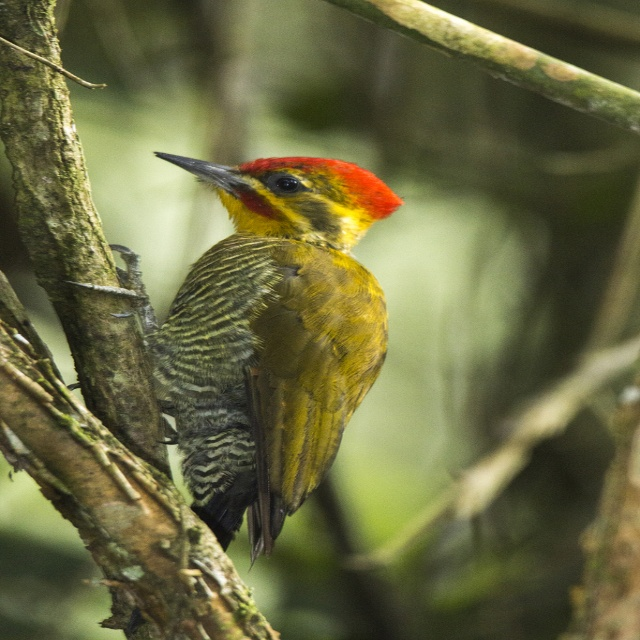Woodpecker: (61, 152, 405, 574)
